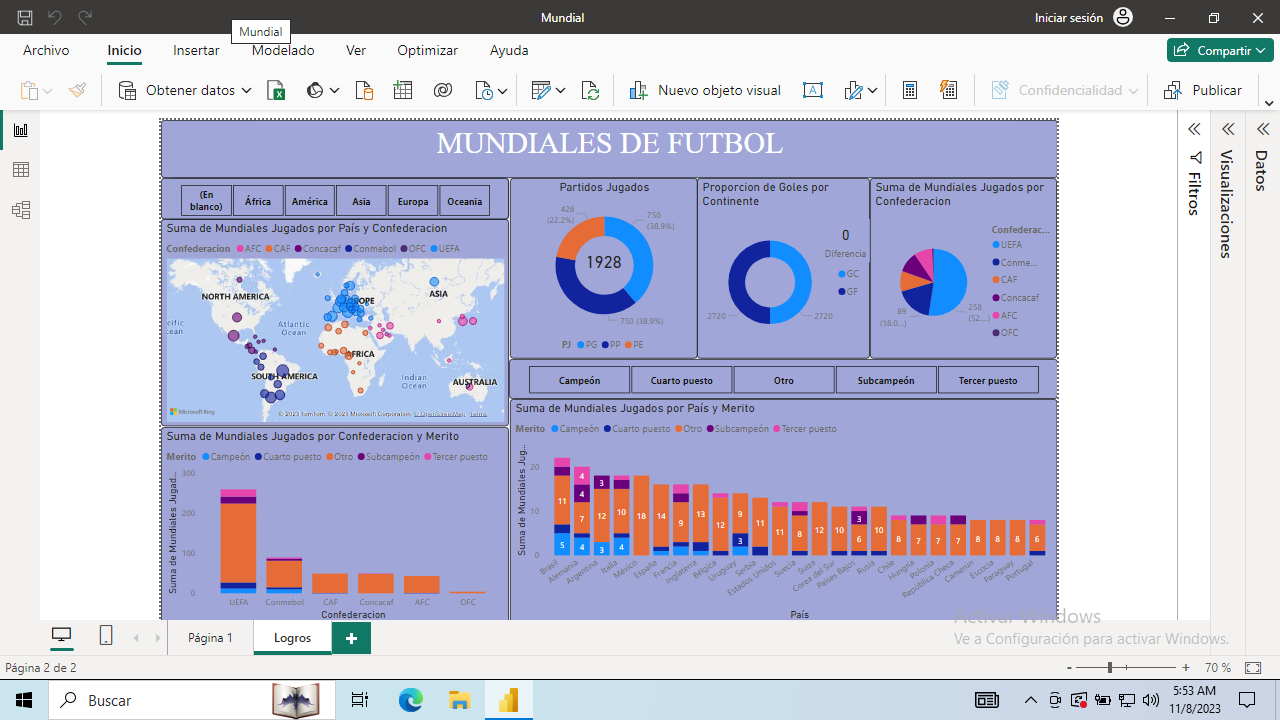

Layout of this report page (visuals, bound fields, positions):
{"tool":"powerbi","page":{"name":"Logros","canvas":[1280,720],"ordinal":1},"visuals":[{"type":"textbox","box":[0,0,1280.7,82.8],"z":0},{"type":"map","fields":{"Category":["Clasificacion por Confederacion con Merito.País"],"Series":["Clasificacion por Confederacion con Merito.Confederacion"],"Size":["Sum(Clasificacion por Confederacion con Merito.Mundiales Jugados)"]},"box":[0,141.8,497,296.3],"z":1000},{"type":"textbox","box":[9.6,82.8,487.4,58.9],"z":2000},{"type":"slicer","fields":{"Values":["PaísesMundiales.Continente"]},"box":[0,82.8,497,58.9],"z":3000},{"type":"donutChart","title":" Proporcion de Goles por Continente","fields":{"Y":["Sum(Tabla Historica de los Mundiales.GC)","Sum(Tabla Historica de los Mundiales.GF)"]},"box":[766.2,82.8,246.9,258.1],"z":3001},{"type":"card","fields":{"Values":["Sum(Tabla Historica de los Mundiales.Dif)"]},"box":[943,141.8,70.1,62.1],"z":3002},{"type":"columnChart","fields":{"Category":["Clasificacion por Confederacion con Merito.Confederacion"],"Series":["Clasificacion por Confederacion con Merito.Merito"],"Y":["Sum(Clasificacion por Confederacion con Merito.Mundiales Jugados)"]},"box":[0,438.1,497,281.9],"z":3003},{"type":"columnChart","fields":{"Series":["Clasificacion por Confederacion con Merito.Merito"],"Y":["Sum(Clasificacion por Confederacion con Merito.Mundiales Jugados)"],"Category":["Clasificacion por Confederacion con Merito.País"]},"box":[498.6,398.2,782.1,321.8],"z":3004},{"type":"donutChart","title":"Partidos Jugados ","fields":{"Y":["Sum(Partidos jugados.Nro Partidos Jugados)"],"Category":["Partidos jugados.PJ"]},"box":[498.6,82.8,267.6,258.1],"z":3005},{"type":"card","fields":{"Values":["Sum(Partidos jugados.Nro Partidos Jugados)"]},"box":[563.9,157.7,135.4,90.8],"z":3006},{"type":"pieChart","fields":{"Category":["Clasificacion por Confederacion con Merito.Confederacion"],"Y":["Sum(Clasificacion por Confederacion con Merito.Mundiales Jugados)"]},"box":[1013,83,267,258],"z":3007},{"type":"slicer","fields":{"Values":["Clasificacion por Confederacion con Merito.Merito"]},"box":[497,340.9,783.7,57.3],"z":3008}]}

Visuals, with their boxes on the page's 1280x720 design canvas (x1, y1, x2, y2). These are canvas units, not pixel positions in the 1280x720 screenshot, which may show the page scaled, cropped or inside an application window:
textbox: box=[0, 0, 1281, 83]
map - Clasificacion por Confederacion con Merito.País x Clasificacion por Confederacion con Merito.Confederacion: box=[0, 142, 497, 438]
textbox: box=[10, 83, 497, 142]
slicer - PaísesMundiales.Continente: box=[0, 83, 497, 142]
" Proporcion de Goles por Continente" donutChart: box=[766, 83, 1013, 341]
card - Sum(Tabla Historica de los Mundiales.Dif): box=[943, 142, 1013, 204]
columnChart - Clasificacion por Confederacion con Merito.Confederacion x Clasificacion por Confederacion con Merito.Merito: box=[0, 438, 497, 720]
columnChart - Clasificacion por Confederacion con Merito.Merito x Sum(Clasificacion por Confederacion con Merito.Mundiales Jugados): box=[499, 398, 1281, 720]
"Partidos Jugados " donutChart: box=[499, 83, 766, 341]
card - Sum(Partidos jugados.Nro Partidos Jugados): box=[564, 158, 699, 248]
pieChart - Clasificacion por Confederacion con Merito.Confederacion x Sum(Clasificacion por Confederacion con Merito.Mundiales Jugados): box=[1013, 83, 1280, 341]
slicer - Clasificacion por Confederacion con Merito.Merito: box=[497, 341, 1281, 398]
